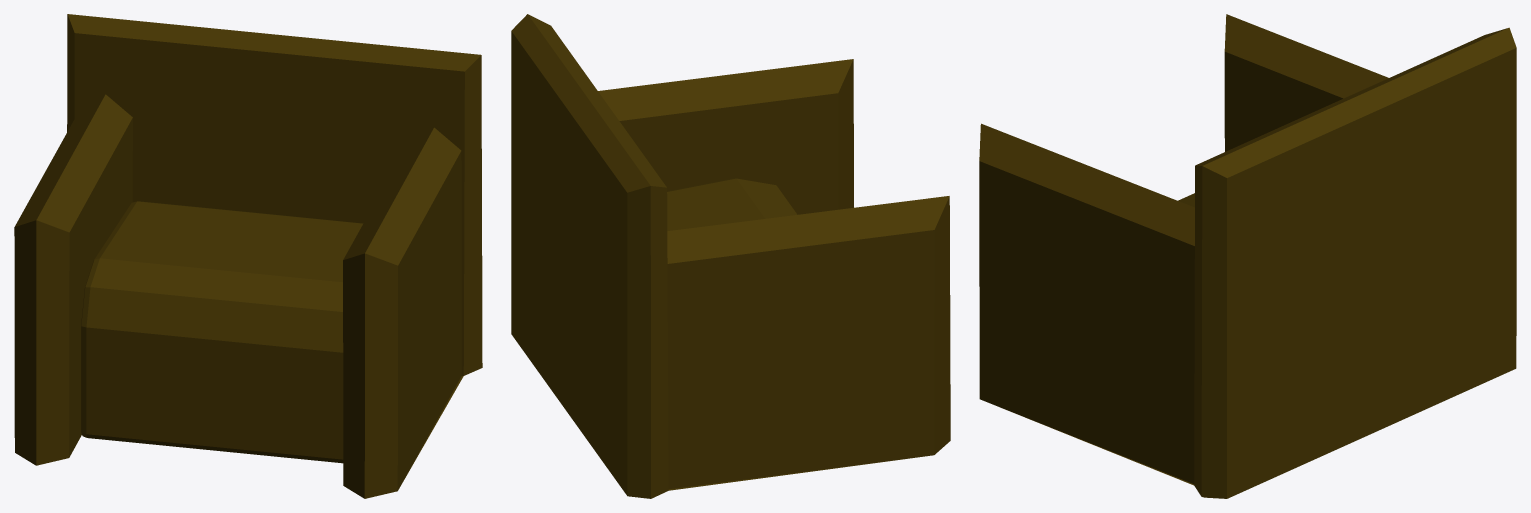
The model's file is 3d small couch.fbx.
The picture shows the model from 3 angles, left to right: view 1: azimuth 30°, elevation 25°; view 2: azimuth 150°, elevation 25°; view 3: azimuth 270°, elevation 25°; orthographic projection. The views are drawn at different scales.
Visible parts, largest first — view 1: d_small_couch:sofa1_left_low1; view 2: d_small_couch:sofa1_left_low1; view 3: d_small_couch:sofa1_left_low1.
Boxes of the visible parts, x1,y1,x2,y2 form: d_small_couch:sofa1_left_low1: (14,14,482,498); d_small_couch:sofa1_left_low1: (511,14,950,498); d_small_couch:sofa1_left_low1: (979,14,1516,498).
Bounding box in the file's own units: 162 × 111 × 162.
